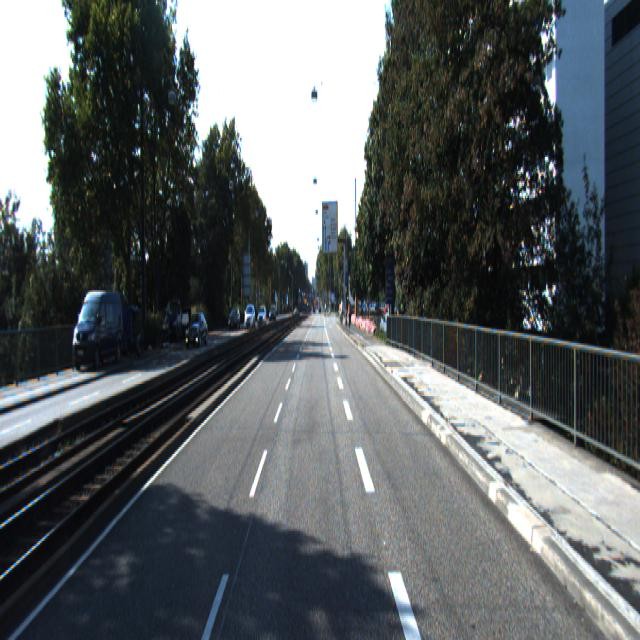Car: (72, 287, 125, 370), (121, 301, 145, 358), (163, 298, 190, 344), (184, 310, 210, 350), (185, 305, 197, 338)
